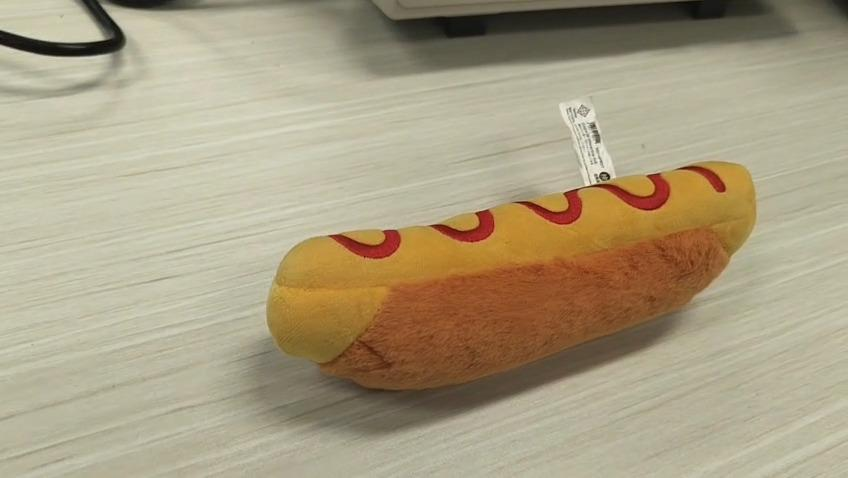hotdog: (265, 158, 757, 392)
